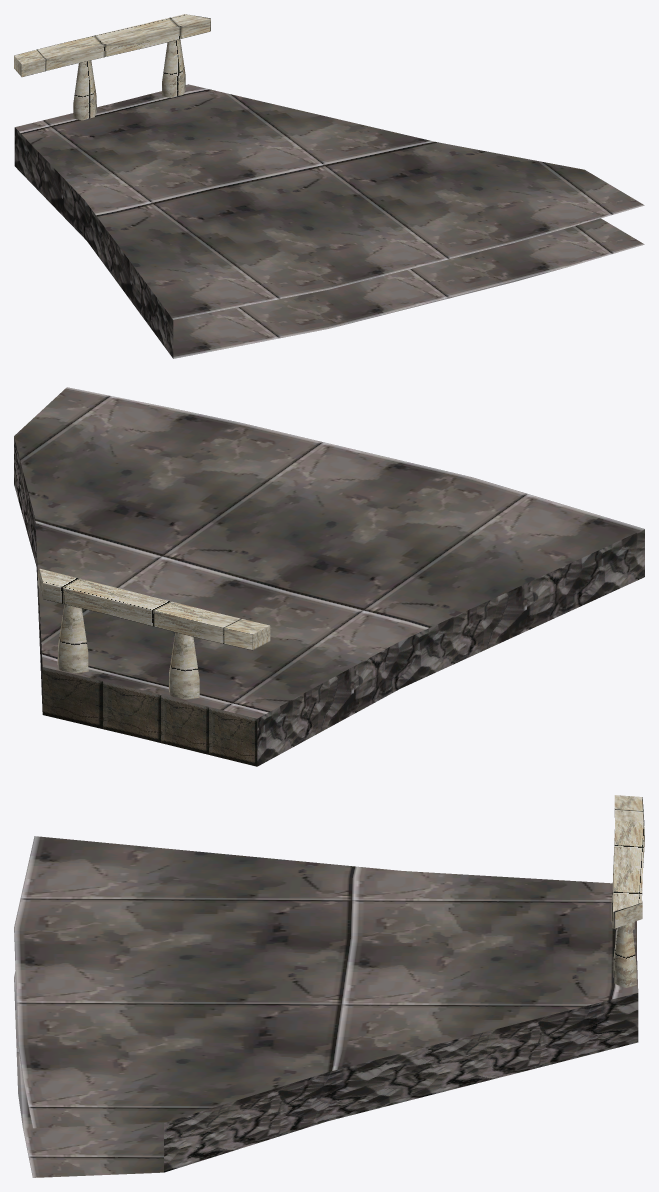
The model's file is INST_SM_WALKWAY_BROKENA.fbx.
The picture shows the model from 3 angles, top to bottom: view 1: azimuth 30°, elevation 25°; view 2: azimuth 150°, elevation 25°; view 3: azimuth 270°, elevation 25°; orthographic projection. The views are drawn at different scales.
Visible parts, largest first — view 1: INST_SM_WALKWAY_BROKENA; view 2: INST_SM_WALKWAY_BROKENA; view 3: INST_SM_WALKWAY_BROKENA.
Part boxes in pixels (x1,y1,x2,y2): INST_SM_WALKWAY_BROKENA: (14, 14, 644, 358); INST_SM_WALKWAY_BROKENA: (14, 387, 644, 766); INST_SM_WALKWAY_BROKENA: (14, 795, 644, 1177).
Size of the model in its own units: 76993 by 16994 by 70272.
4 materials, 4 textured.
